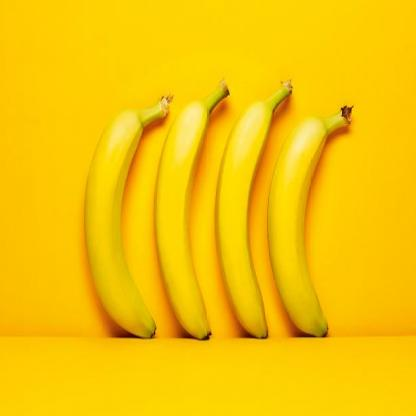banana: (72, 103, 166, 346), (160, 92, 217, 356), (272, 117, 335, 355), (221, 110, 270, 350)
